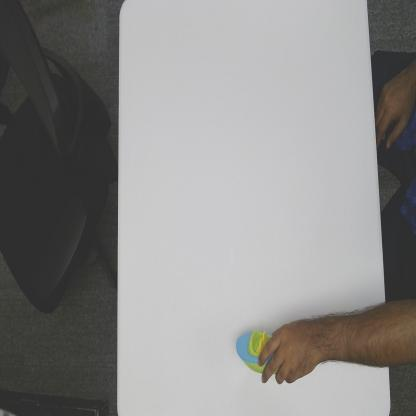Arm: (318, 302, 388, 370)
Boat: (235, 326, 279, 375)
Hand: (258, 318, 319, 384)
